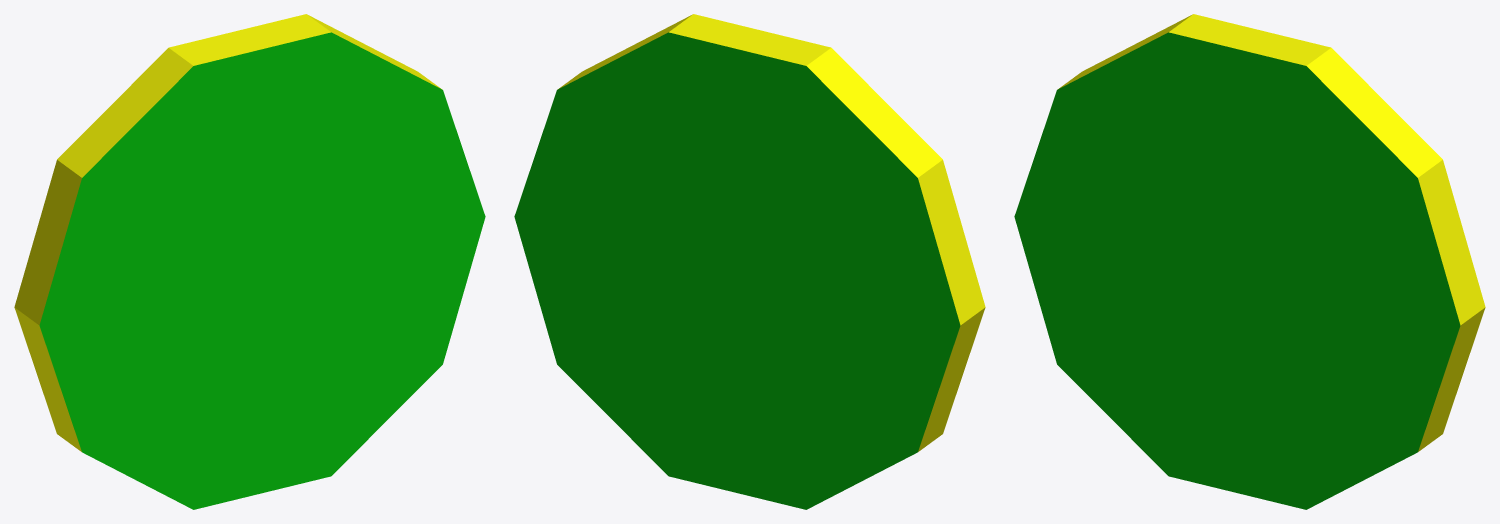
The model's file is coin-green.glb.
3 renders of one model, left to right at view 1: azimuth 30°, elevation 25°; view 2: azimuth 150°, elevation 25°; view 3: azimuth 330°, elevation 25°, orthographic.
Size of the model in its own units: 21.61 by 20.56 by 2.1.
Materials: 1 (1 with a texture image).
